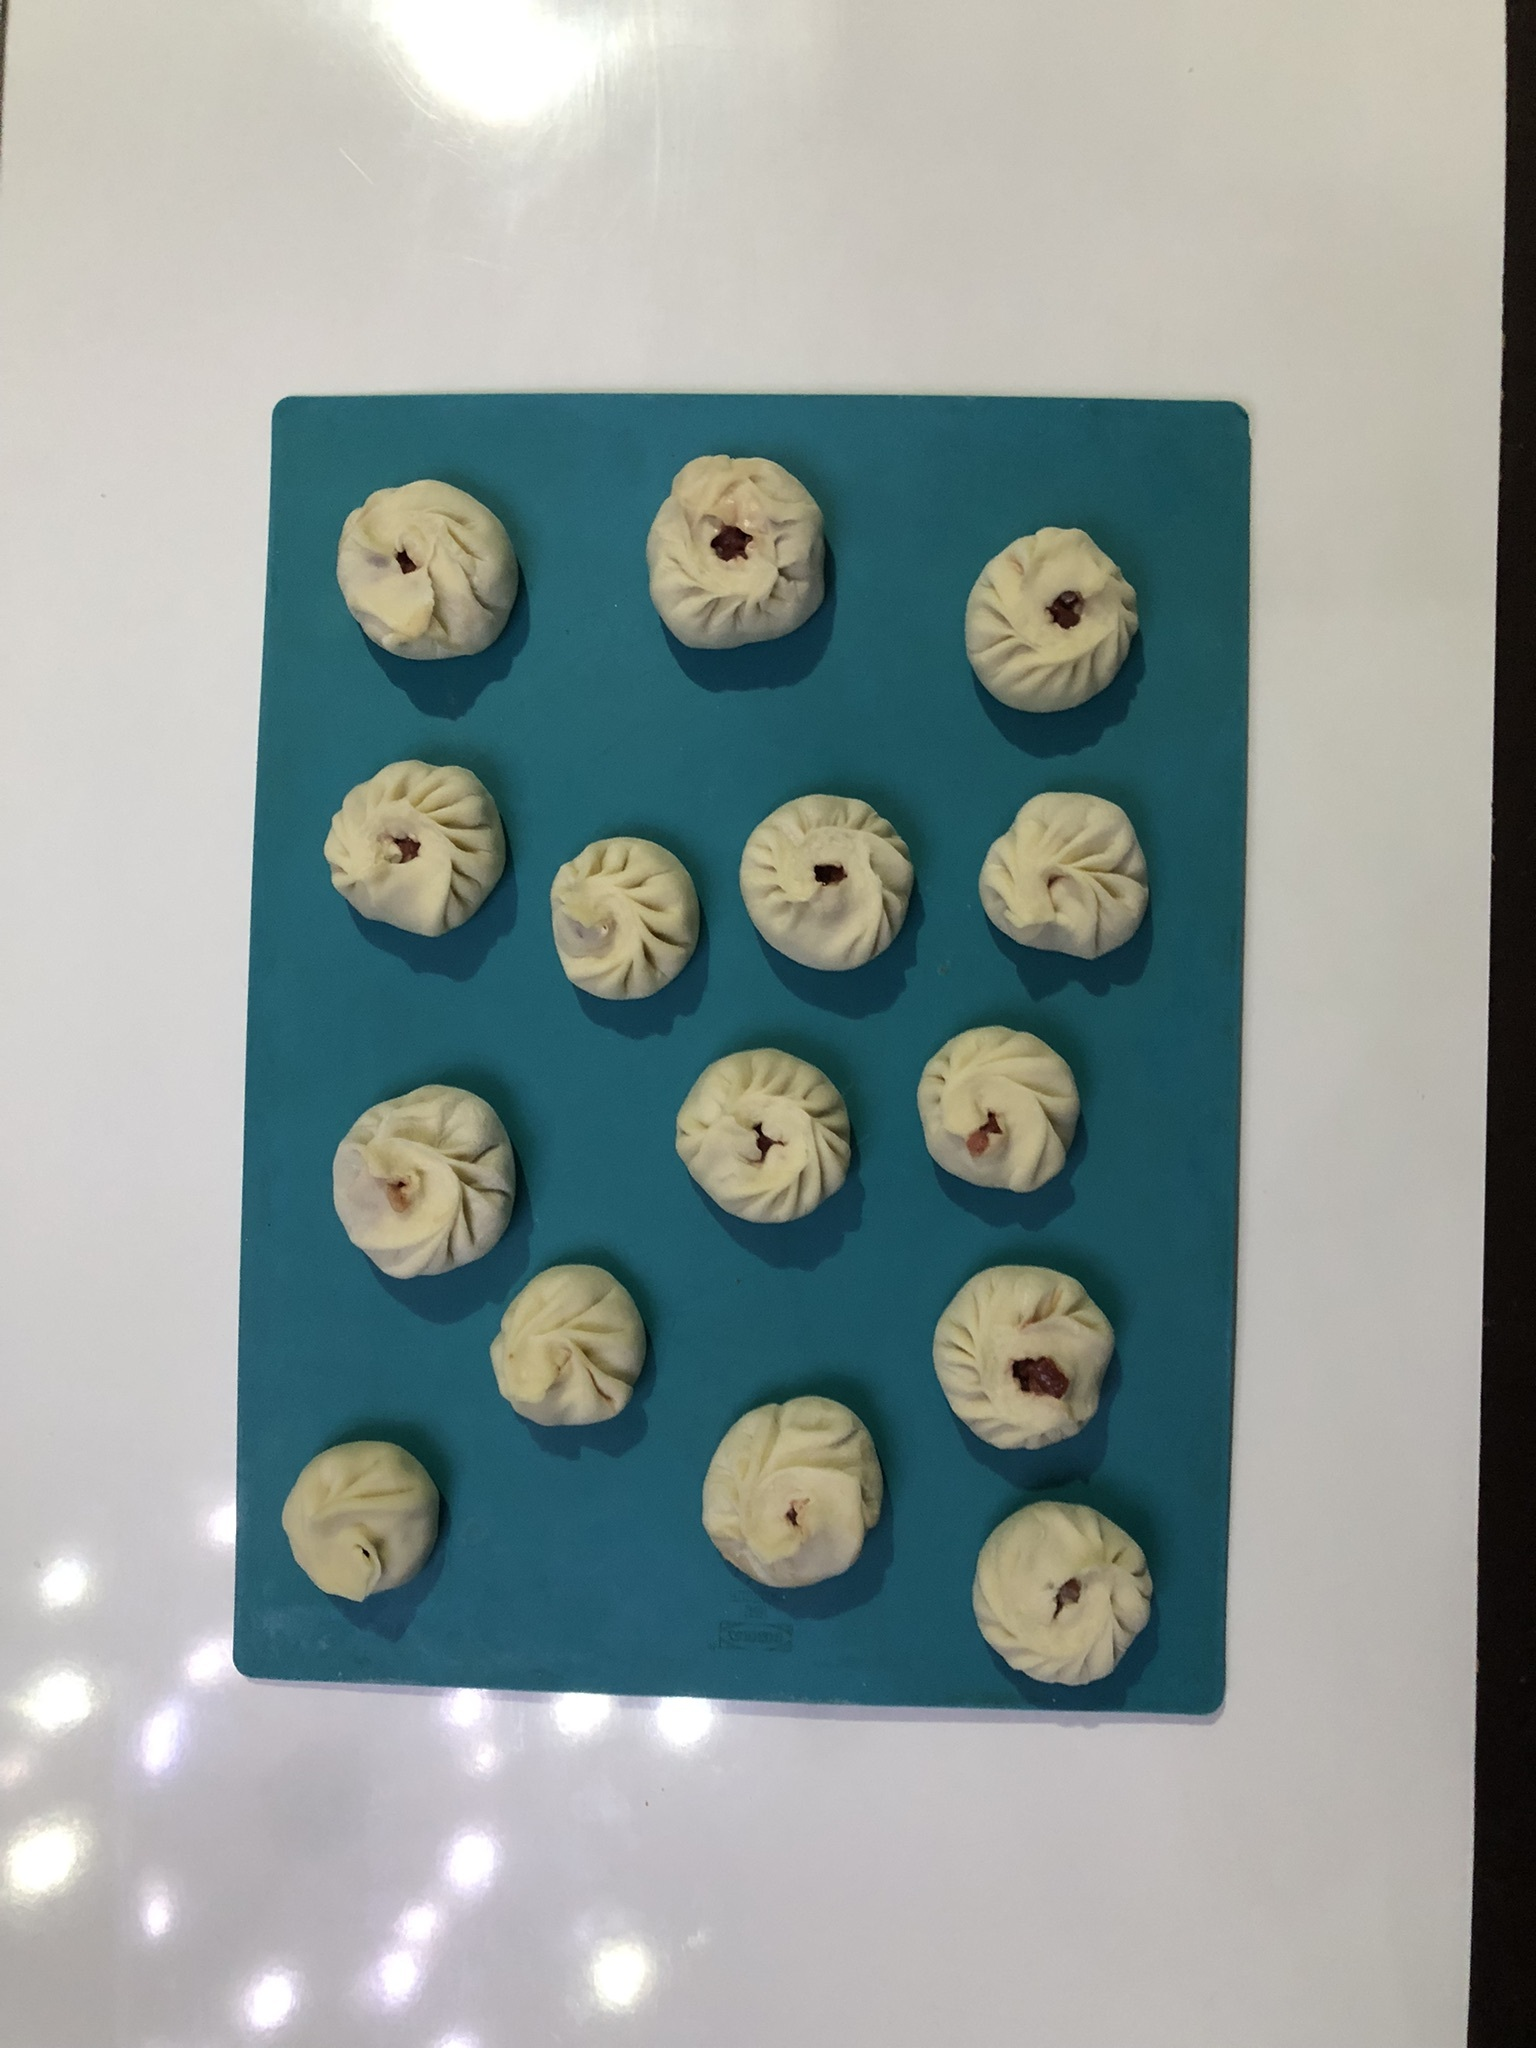buuz: (945, 1487, 1171, 1700), (920, 1251, 1129, 1464), (637, 448, 850, 655), (323, 1074, 529, 1285), (687, 1390, 899, 1596), (311, 742, 516, 947), (957, 516, 1154, 726), (331, 469, 536, 669), (662, 1042, 866, 1232), (729, 784, 928, 977), (968, 780, 1158, 971), (274, 1422, 465, 1609), (910, 1016, 1097, 1200), (481, 1255, 665, 1442), (537, 826, 712, 1013)
